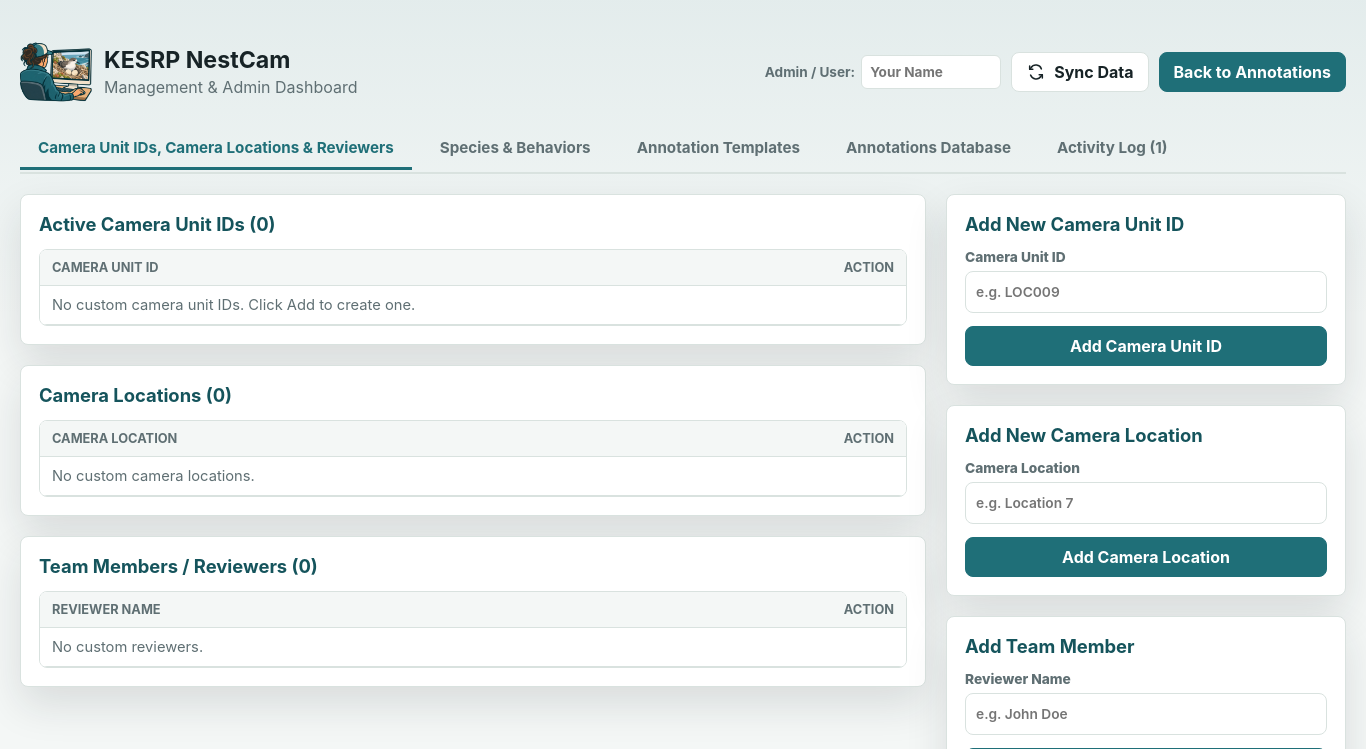
Test: ManagementDashboard › renders audit log items and displays detail modal when clicked
Click the button "Activity Log (1)": (1112, 149) [1039, 128, 1186, 170]
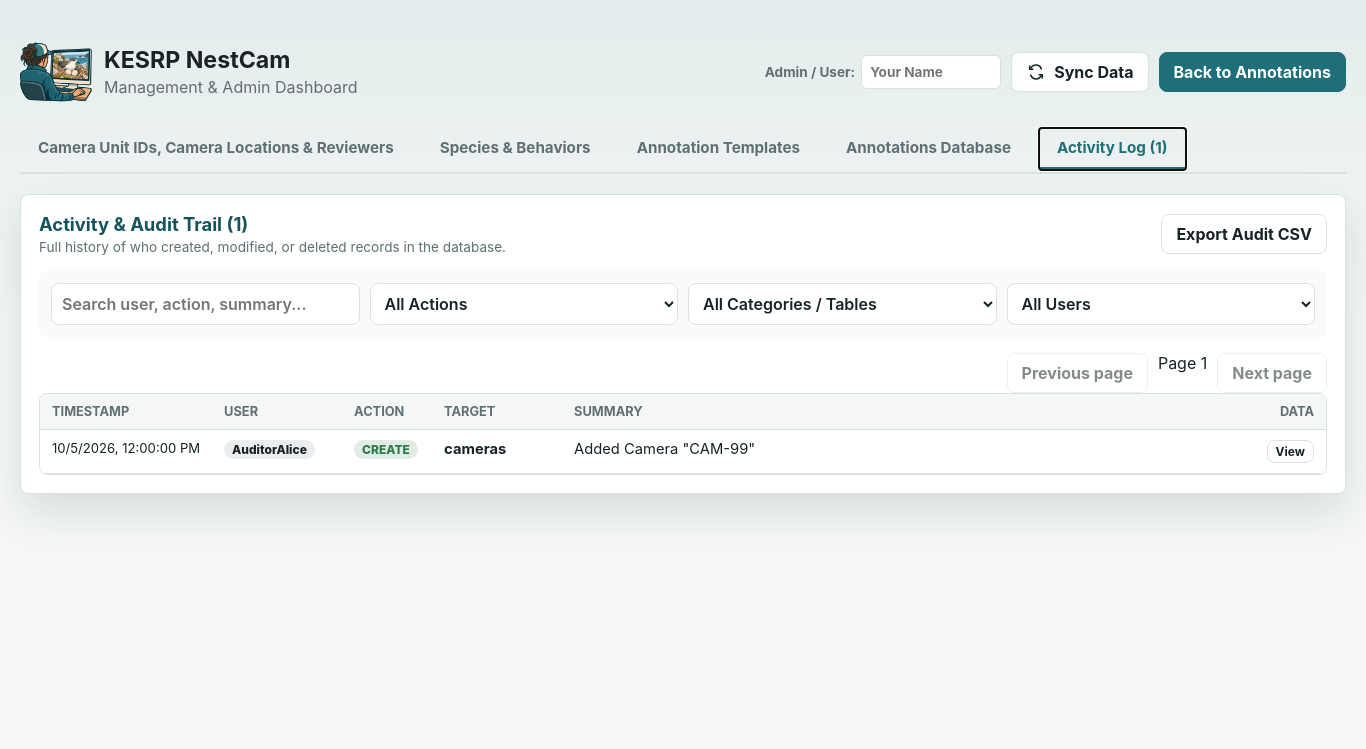
Now the text "Added Camera \"CAM-99\"" is shown, box [562, 430, 1246, 474]
Click the button "View": (1290, 452) [1267, 440, 1314, 463]
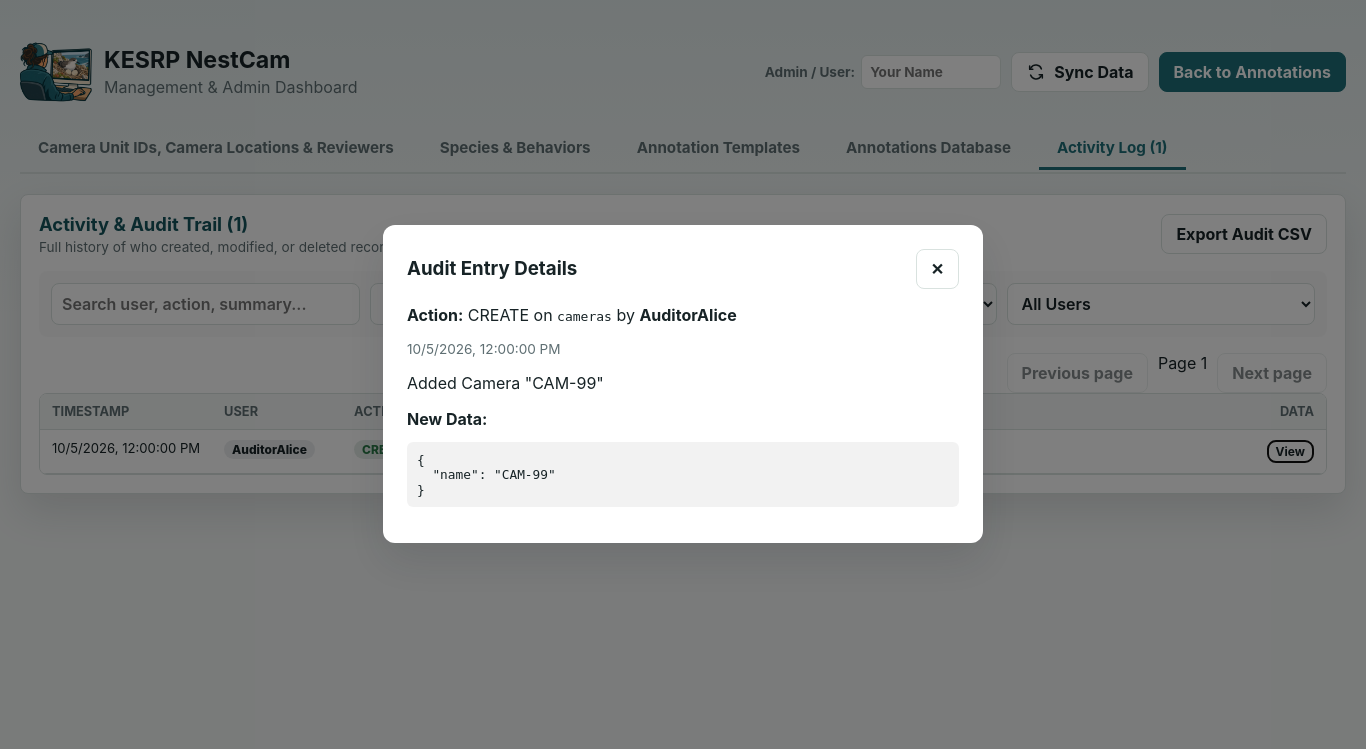
Now the heading "Audit Entry Details" is shown, box [407, 257, 577, 280]
